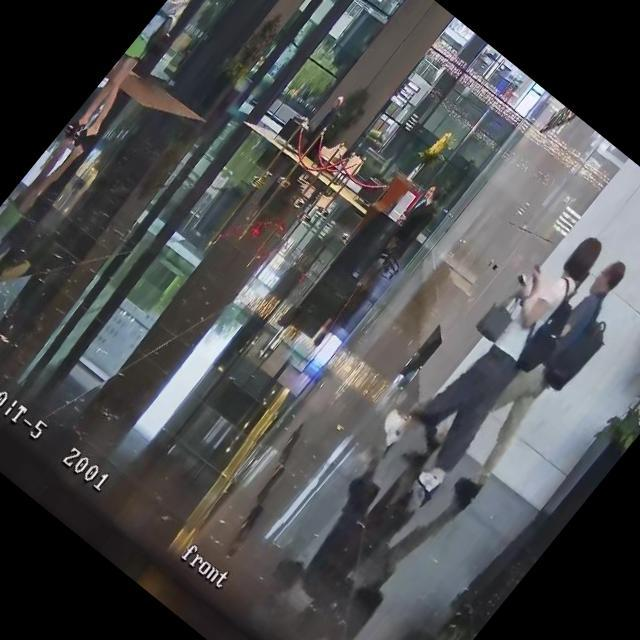person: (362, 209, 624, 504), (431, 253, 640, 506), (65, 0, 227, 146), (378, 180, 452, 264), (303, 94, 348, 146)
